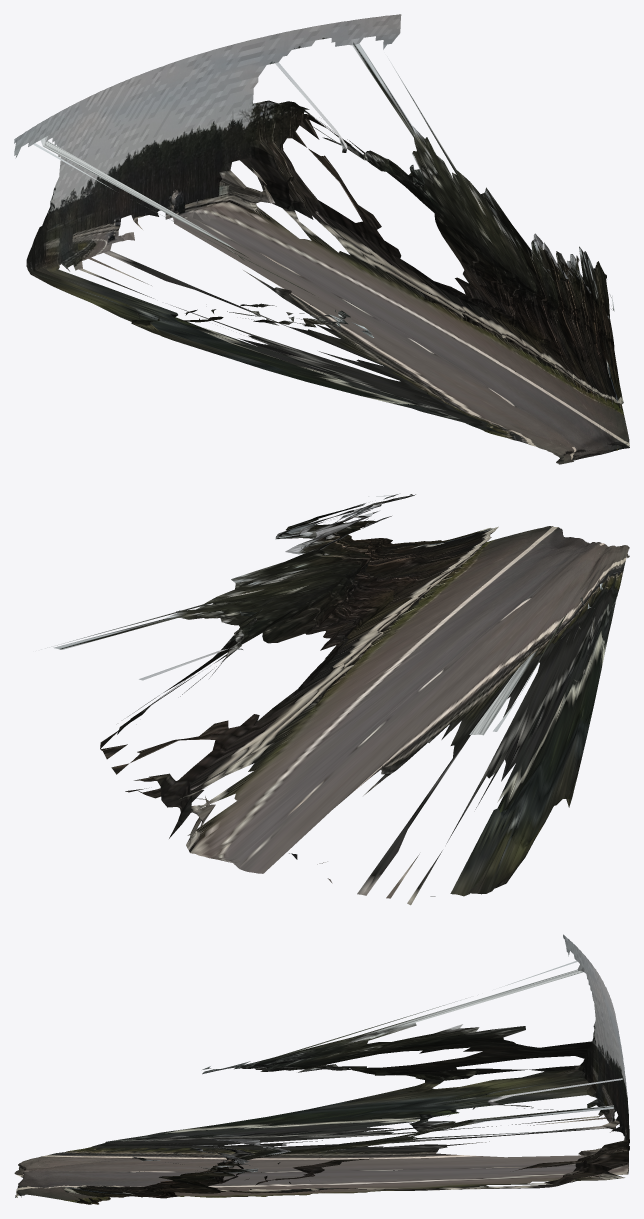
3 renders of one model, top to bottom at view 1: azimuth 30°, elevation 25°; view 2: azimuth 150°, elevation 25°; view 3: azimuth 270°, elevation 25°, orthographic. The views are drawn at different scales.
Visible parts, largest first — view 1: defaultobject; view 2: defaultobject; view 3: defaultobject.
Boxes of the visible parts, x1,y1,x2,y2 form: defaultobject: (14,14,629,464); defaultobject: (41,494,629,905); defaultobject: (14,934,629,1204).
Size of the model in its own units: 29.96 by 12.34 by 44.43.
Materials: 1 (1 with a texture image).
